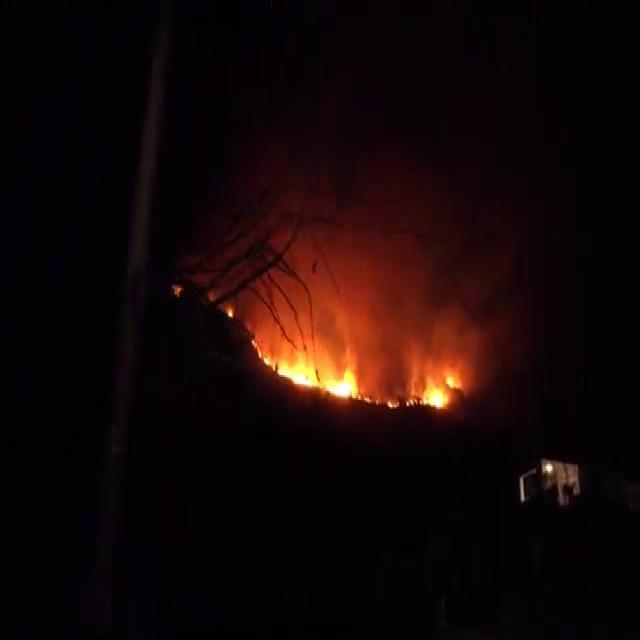Fire: (256, 334, 359, 402), (423, 370, 458, 409)
Smoke: (248, 208, 508, 410)
